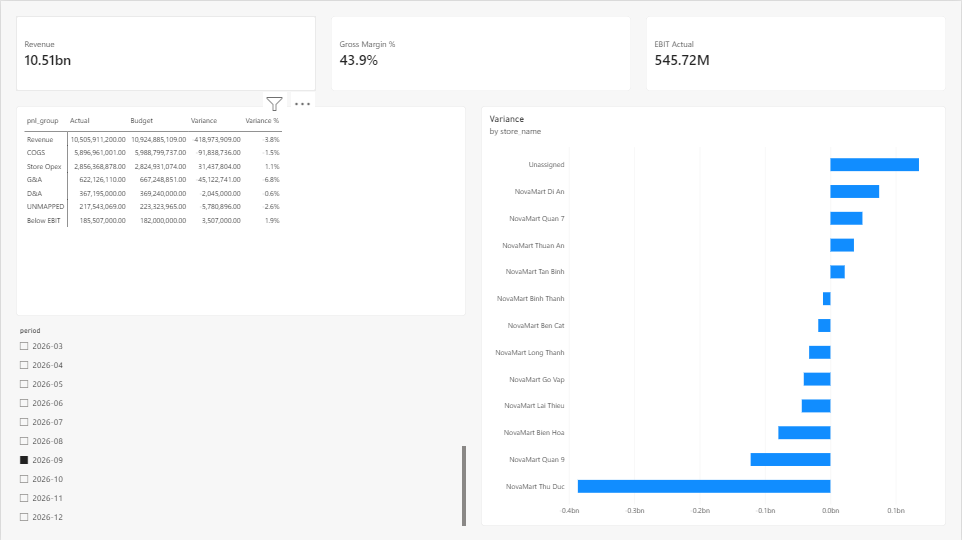

Layout of this report page (visuals, bound fields, positions):
{"tool":"powerbi","page":{"name":"Page 1","canvas":[1920,1080],"ordinal":0},"visuals":[{"type":"pivotTable","fields":{"Rows":["dim_account.pnl_group"],"Values":["fact_pnl.Actual","fact_pnl.Budget","fact_pnl.Variance","fact_pnl.Variance %"]},"box":[30,210,900,420],"z":0},{"type":"clusteredBarChart","fields":{"Category":["dim_costcenter.store_name"],"Y":["fact_pnl.Variance"]},"box":[960,210,930,840],"z":1000},{"type":"slicer","fields":{"Values":["dim_date.period"]},"box":[30,650,900,400],"z":3000},{"type":"cardVisual","fields":{"Data":["fact_pnl.EBIT Actual"]},"box":[1290,30,600,150],"z":4000},{"type":"cardVisual","fields":{"Data":["fact_pnl.Revenue"]},"box":[30,30,600,150],"z":4001},{"type":"cardVisual","fields":{"Data":["fact_pnl.Gross Margin %"]},"box":[660,30,600,150],"z":4002}]}

Visuals, with their boxes in screenshot pixels (x1, y1, x2, y2), scaled from the page's 1920x1080 canvas onto the 962x540 screenshot:
pivotTable - dim_account.pnl_group x fact_pnl.Actual: {"x1": 15, "y1": 105, "x2": 466, "y2": 315}
clusteredBarChart - dim_costcenter.store_name x fact_pnl.Variance: {"x1": 481, "y1": 105, "x2": 947, "y2": 525}
slicer - dim_date.period: {"x1": 15, "y1": 325, "x2": 466, "y2": 525}
cardVisual - fact_pnl.EBIT Actual: {"x1": 646, "y1": 15, "x2": 947, "y2": 90}
cardVisual - fact_pnl.Revenue: {"x1": 15, "y1": 15, "x2": 316, "y2": 90}
cardVisual - fact_pnl.Gross Margin %: {"x1": 331, "y1": 15, "x2": 631, "y2": 90}
